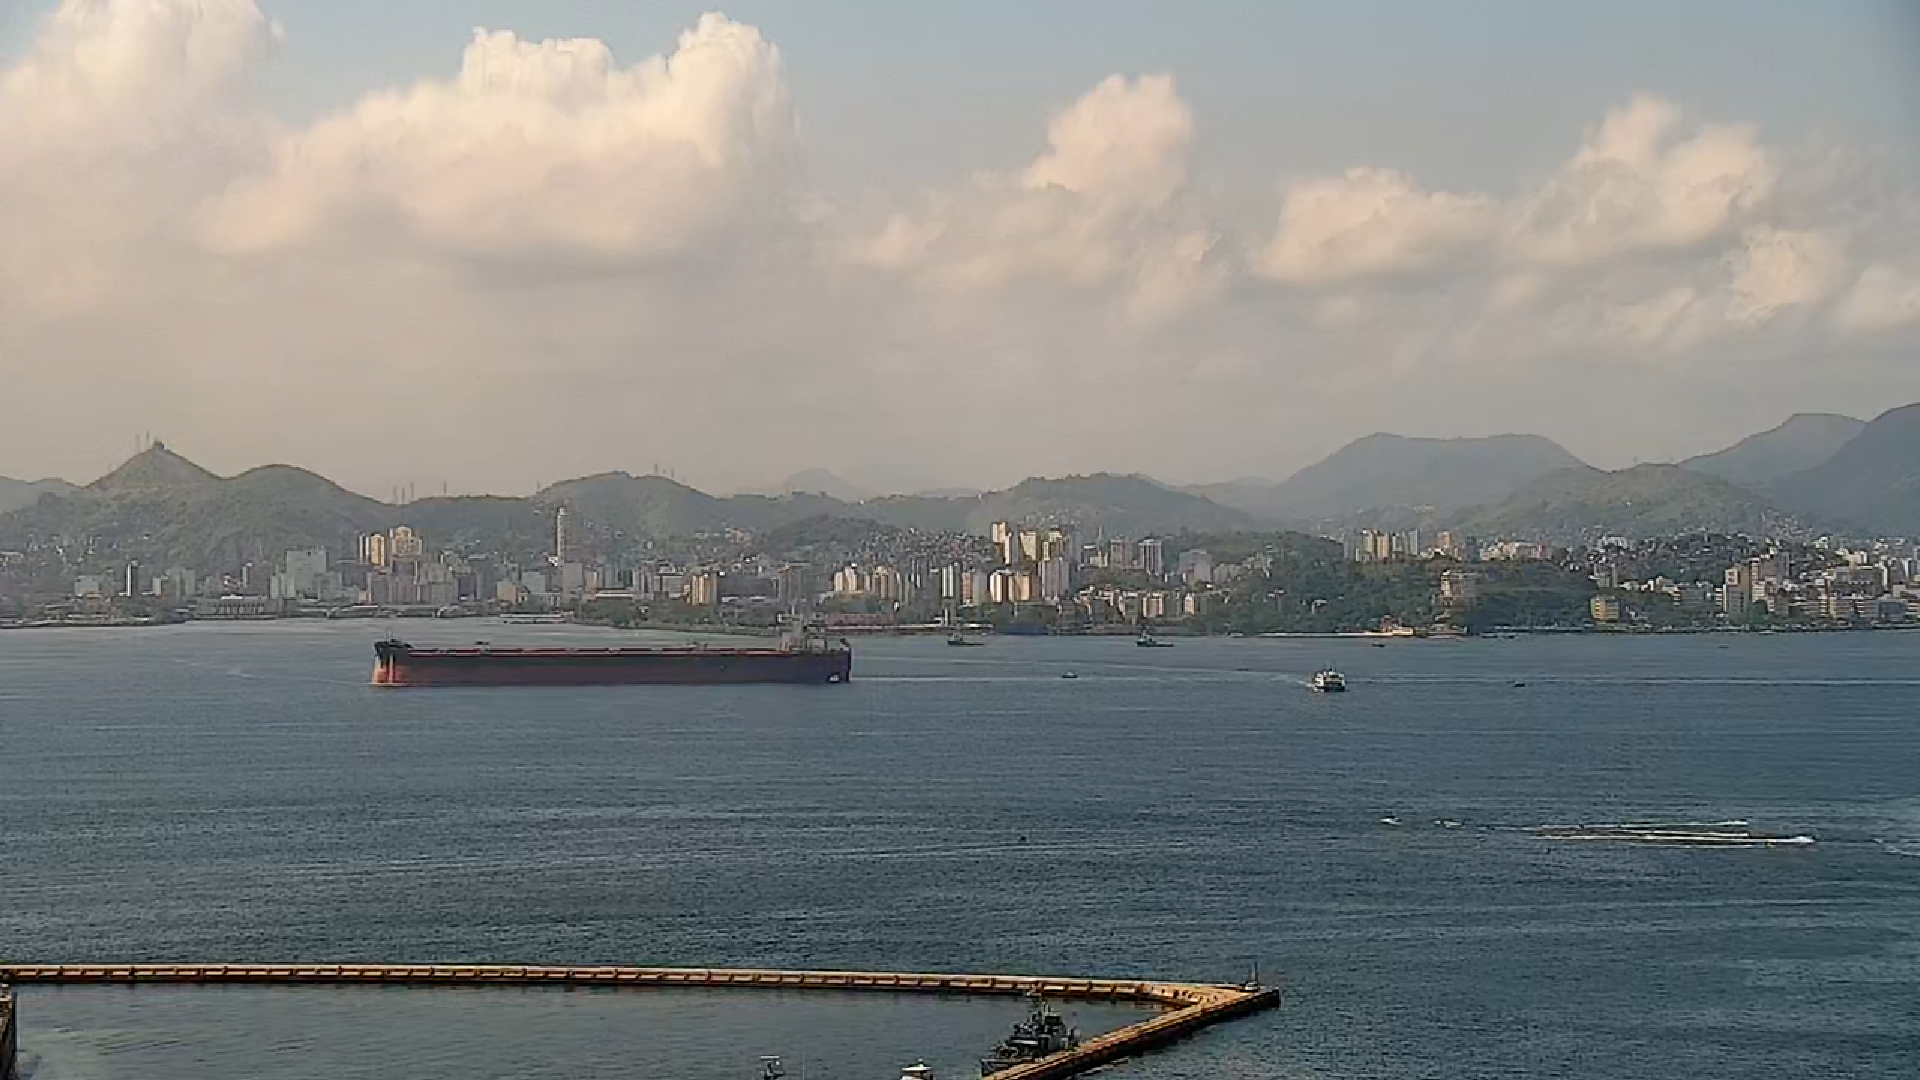Ship1: (1309, 667, 1350, 695)
Ship2: (367, 604, 858, 695)
Ship5: (947, 632, 986, 647), (1135, 632, 1174, 647)
